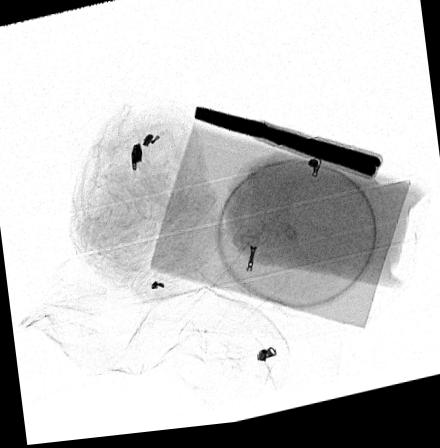Pliers: (193, 109, 381, 187)
